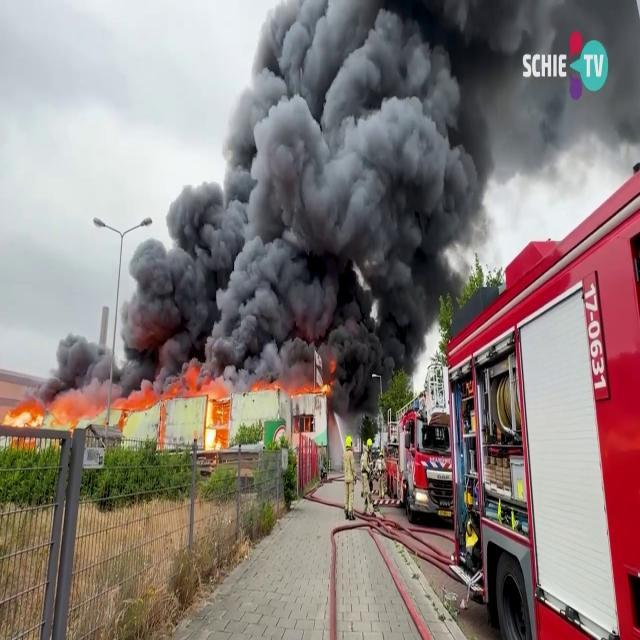Fire: (2, 385, 332, 452)
Smoke: (124, 0, 558, 381)
